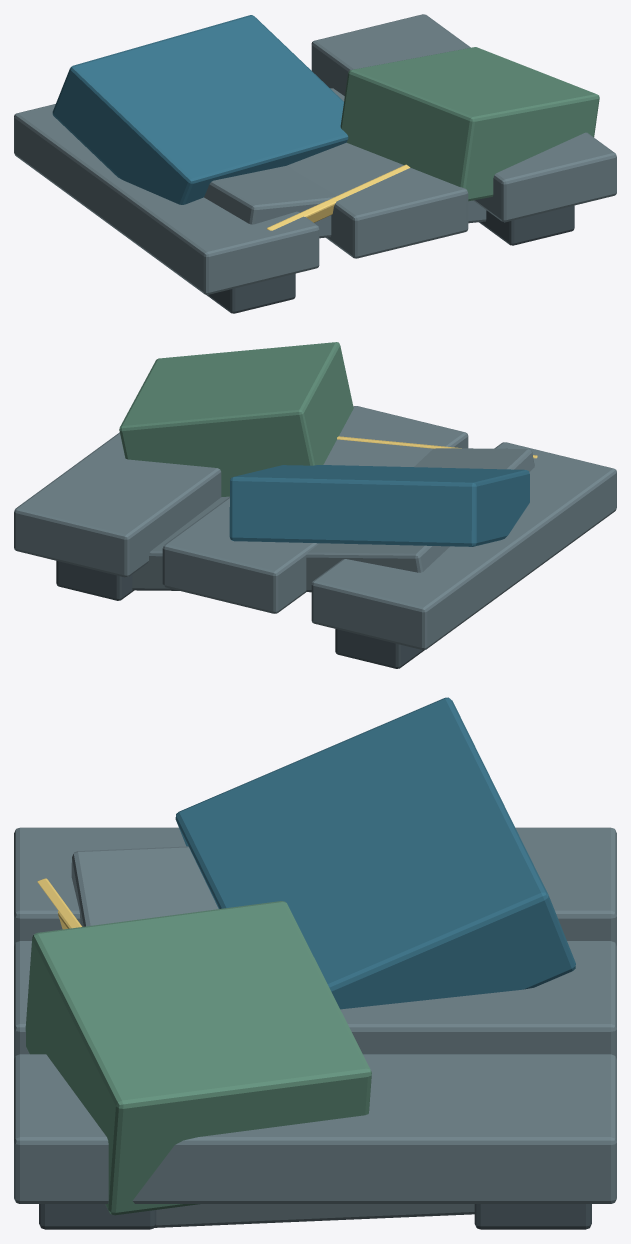
Rendered from pallet_stack_d3.glb.
The picture shows the model from 3 angles, top to bottom: view 1: azimuth 30°, elevation 25°; view 2: azimuth 150°, elevation 25°; view 3: azimuth 270°, elevation 25°; orthographic projection. The views are drawn at different scales.
Parts seen in each view (by area): view 1: Fallen load, Detached green crate, Pallet deck board.009, Pallet deck board.011, Pallet deck board.010, Split pallet base, Pallet block.014, Pallet block.012, Torn load wrap; view 2: Detached green crate, Pallet deck board.009, Fallen load, Pallet deck board.011, Pallet deck board.010, Split pallet base, Pallet block.013, Pallet block.015, Torn load wrap; view 3: Fallen load, Detached green crate, Pallet deck board.011, Pallet deck board.010, Pallet deck board.009, Split pallet base, Pallet block.015, Pallet block.014, Torn load wrap.
Part boxes in pixels (x1,y1,x2,y2): Fallen load: [52, 15, 348, 204]; Detached green crate: [340, 47, 599, 201]; Pallet deck board.009: [14, 104, 319, 294]; Pallet deck board.011: [311, 14, 616, 222]; Pallet deck board.010: [287, 94, 468, 258]; Split pallet base: [204, 88, 486, 238]; Pallet block.014: [479, 205, 574, 245]; Pallet block.012: [206, 273, 295, 313]; Torn load wrap: [267, 164, 410, 230]; Detached green crate: [119, 342, 353, 496]; Pallet deck board.009: [311, 442, 616, 649]; Fallen load: [229, 465, 529, 546]; Pallet deck board.011: [14, 432, 221, 577]; Pallet deck board.010: [162, 406, 468, 613]; Split pallet base: [132, 448, 534, 592]; Pallet block.013: [335, 629, 424, 668]; Pallet block.015: [56, 561, 134, 600]; Torn load wrap: [337, 436, 537, 458]; Fallen load: [175, 697, 575, 1009]; Detached green crate: [25, 901, 371, 1215]; Pallet deck board.011: [14, 1054, 616, 1203]; Pallet deck board.010: [14, 941, 616, 1059]; Pallet deck board.009: [14, 827, 616, 945]; Split pallet base: [71, 846, 474, 1227]; Pallet block.015: [474, 1204, 591, 1229]; Pallet block.014: [39, 1204, 156, 1229]; Torn load wrap: [37, 878, 82, 929].
Size of the model in its own units: 2.33 by 0.843 by 1.8.
